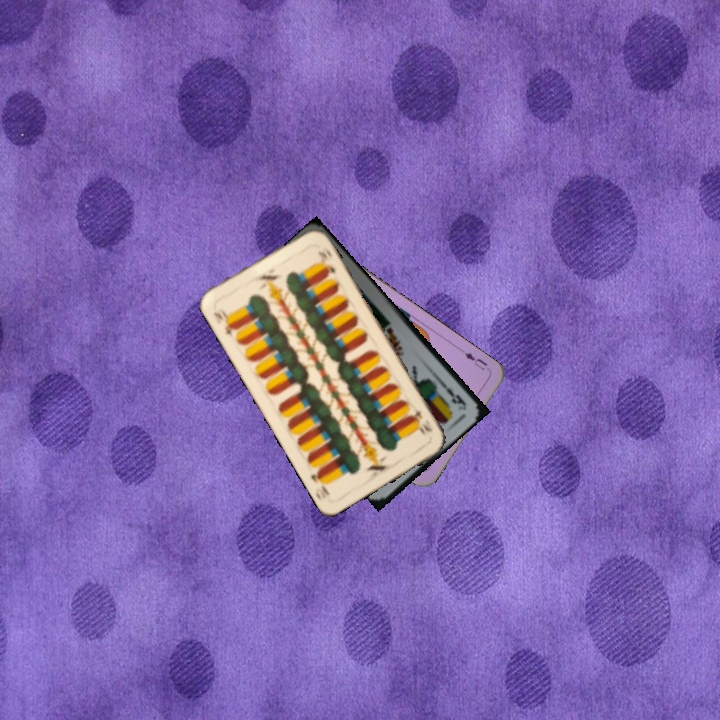E10: (209, 304, 238, 338), (407, 405, 435, 435)
EK: (437, 378, 469, 408)
EU: (460, 348, 494, 376)
